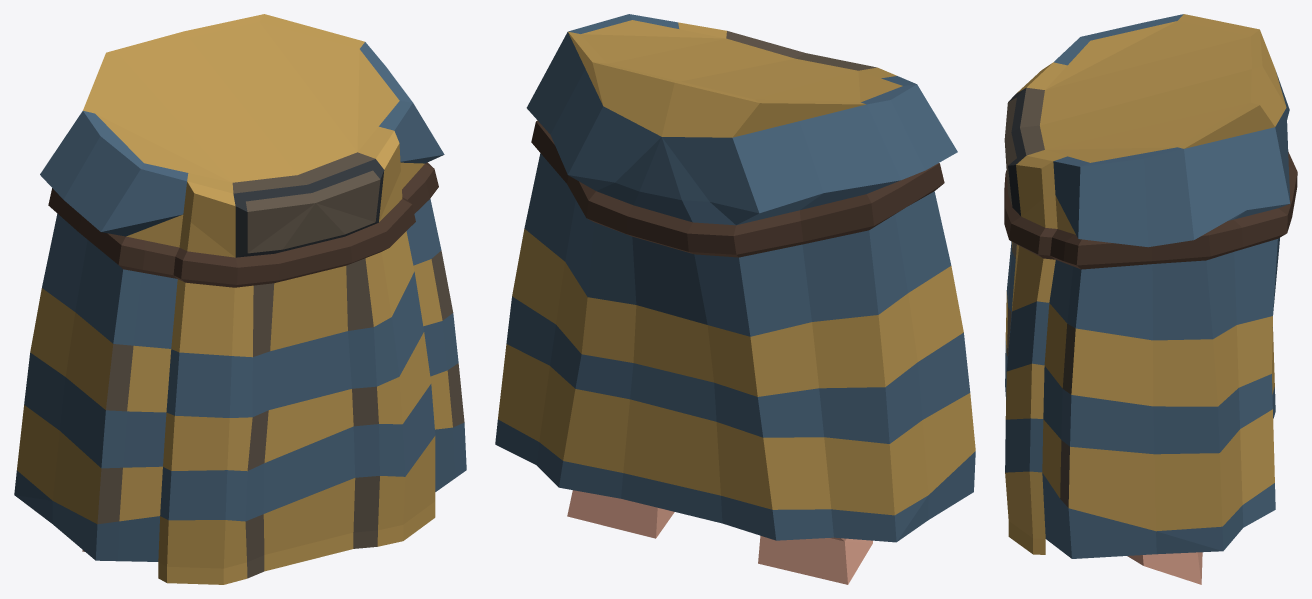
Rendered from Chr_Hips_Male_26_Static.fbx.
3 renders of one model, left to right at view 1: azimuth 30°, elevation 25°; view 2: azimuth 150°, elevation 25°; view 3: azimuth 270°, elevation 25°, orthographic. The views are drawn at different scales.
Visible parts, largest first — view 1: Chr_Hips_Male_26_Static; view 2: Chr_Hips_Male_26_Static; view 3: Chr_Hips_Male_26_Static.
Boxes of the visible parts, <box> form: Chr_Hips_Male_26_Static: <box>14,14,466,584</box>; Chr_Hips_Male_26_Static: <box>495,14,975,584</box>; Chr_Hips_Male_26_Static: <box>1004,14,1297,584</box>.
Bounding box in the file's own units: 0.4729 × 0.554 × 0.3234.
